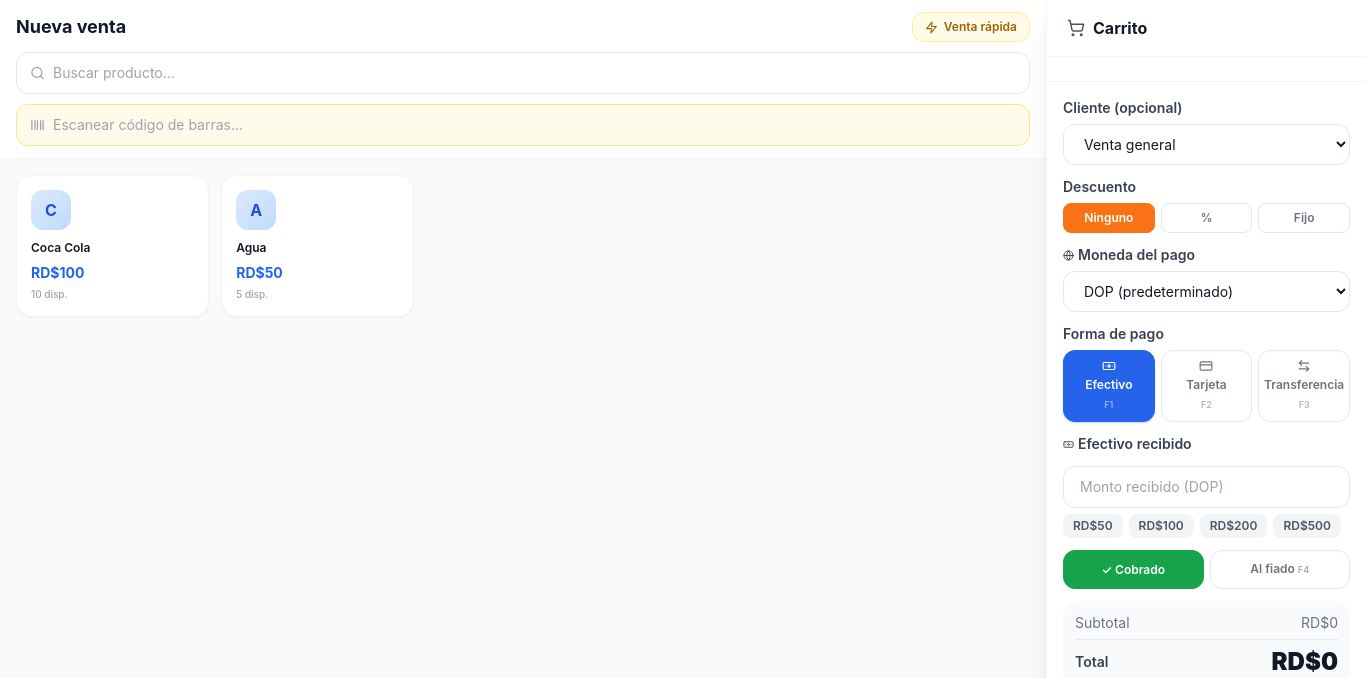
it: Vender — carrito de compras › vacía el carrito al pulsar "Vaciar"
Click the button "C Coca Cola RD$100 10 disp.".
click(113, 246)  # box [16,175,209,316]
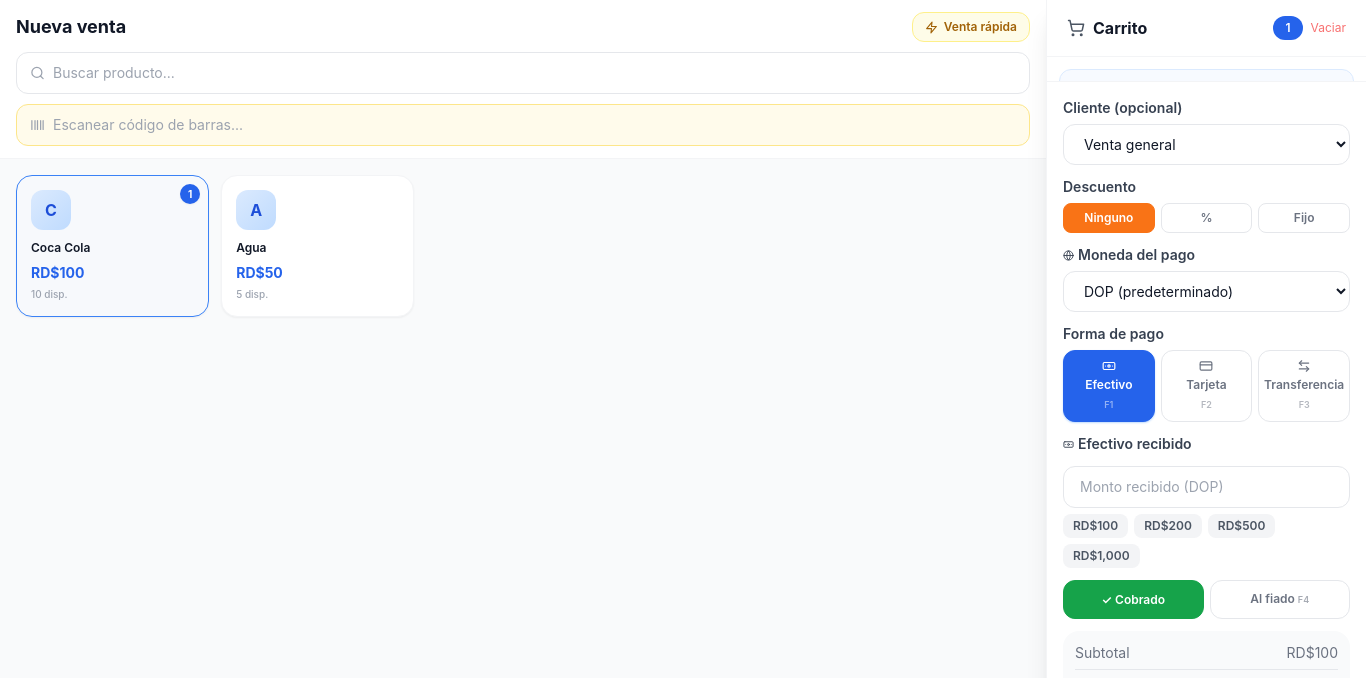
Click the button "A Agua RD$50 5 disp.".
click(318, 246)  # box [221,175,414,316]
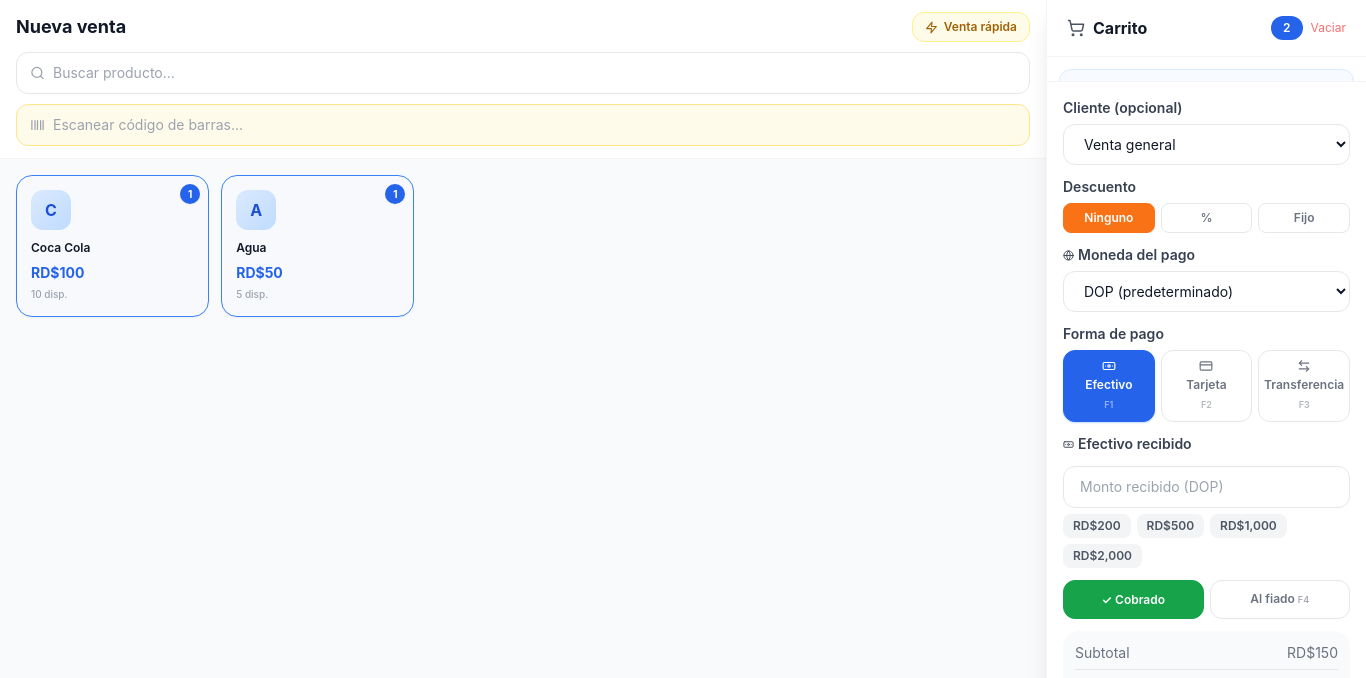
Click the button "Vaciar".
click(1328, 28)  # box [1311,20,1346,36]
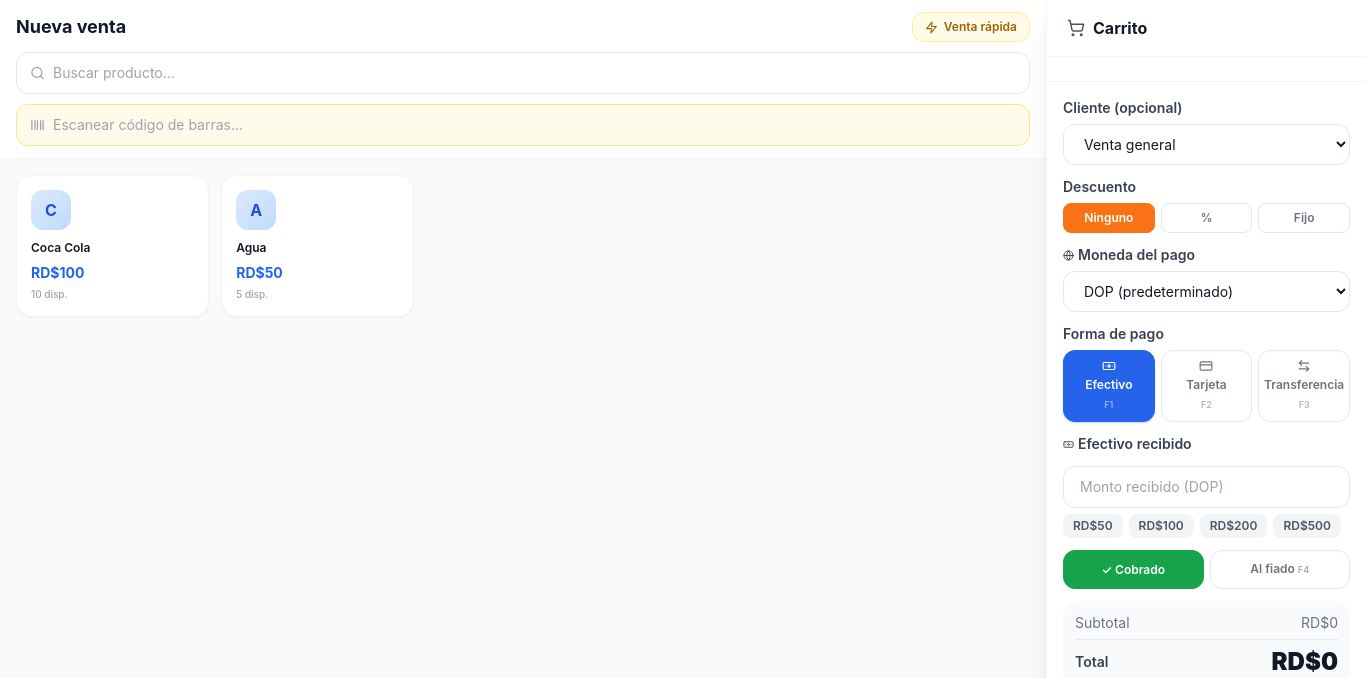
Expected: the button "Vaciar" is gone
